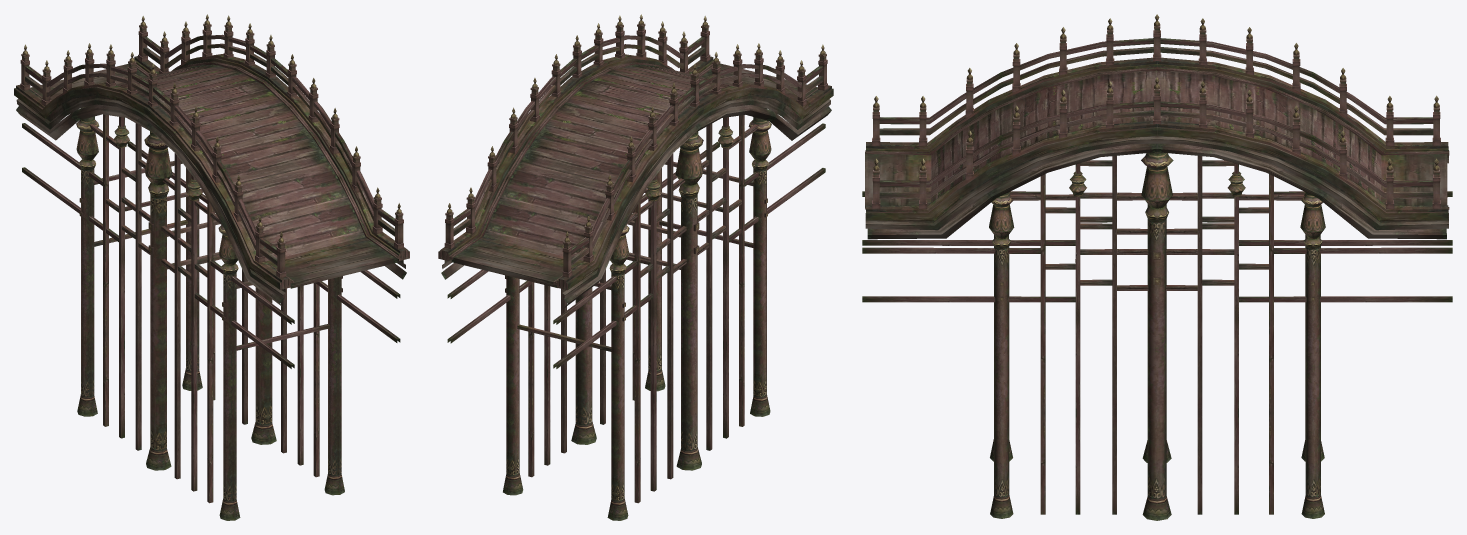
Rendered from JiaYeSi_muqiao01.fbx.
3 views of the same model, side by side, from view 1: azimuth 30°, elevation 25°; view 2: azimuth 150°, elevation 25°; view 3: azimuth 270°, elevation 25° (orthographic). The views are drawn at different scales.
Visible parts, largest first — view 1: muqiao01; view 2: muqiao01; view 3: muqiao01.
Boxes of the visible parts, x1=… form: muqiao01: x1=14, y1=14, x2=409, y2=520; muqiao01: x1=438, y1=14, x2=833, y2=520; muqiao01: x1=862, y1=14, x2=1452, y2=520.
Size of the model in its own units: 724 by 2125 by 2574.
